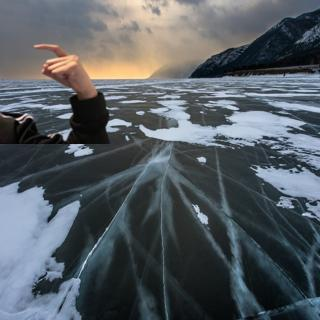WHY: (28, 40, 96, 97)
